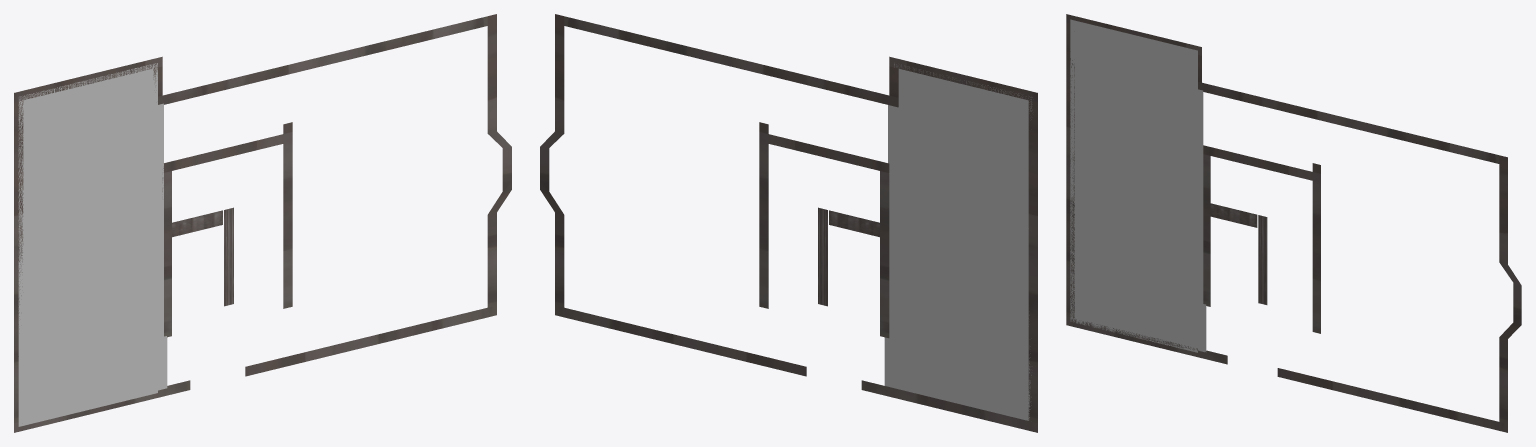
File: house0.FBX
3 renders of one model, left to right at view 1: azimuth 30°, elevation 25°; view 2: azimuth 150°, elevation 25°; view 3: azimuth 330°, elevation 25°, orthographic. The views are drawn at different scales.
Parts seen in each view (by area): view 1: house0_kitchen_floor, house0_walls; view 2: house0_kitchen_floor, house0_walls; view 3: house0_kitchen_floor, house0_walls.
Part boxes in pixels (left/top/right/bottom): house0_kitchen_floor: left=18, top=63, right=167, bottom=426; house0_walls: left=14, top=14, right=511, bottom=432; house0_kitchen_floor: left=884, top=63, right=1032, bottom=420; house0_walls: left=540, top=14, right=1037, bottom=432; house0_kitchen_floor: left=1070, top=19, right=1206, bottom=352; house0_walls: left=1066, top=14, right=1521, bottom=432.
Size of the model in its own units: 1072 by 0.00013 by 700.
Materials: 1 (1 with a texture image).
